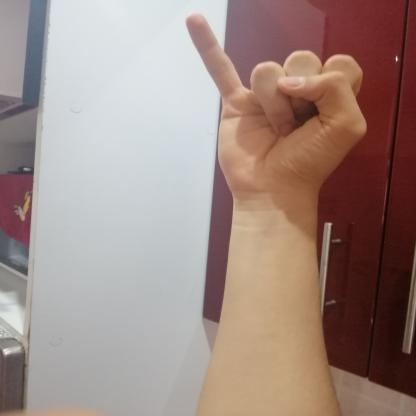MEEM: (176, 5, 387, 214)
